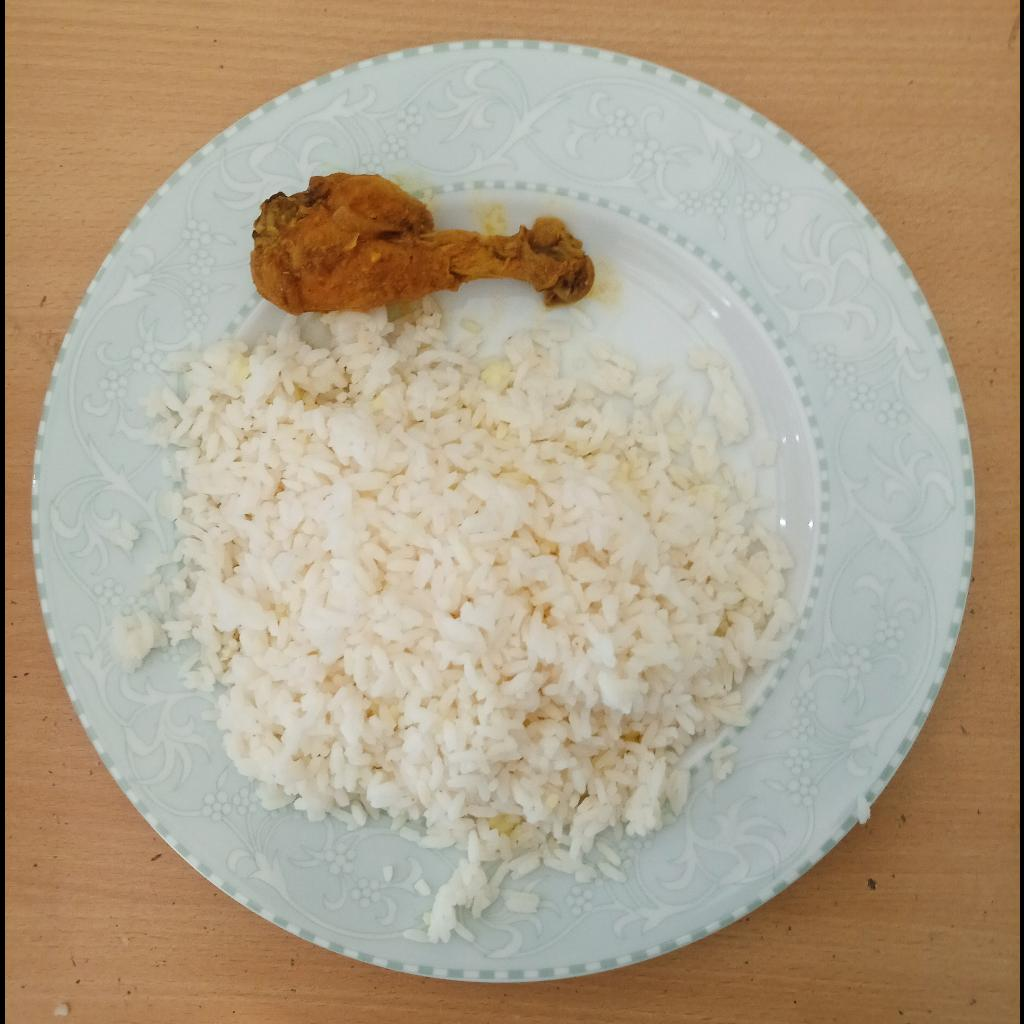chicken: (245, 171, 592, 315)
rice: (106, 316, 796, 945)
